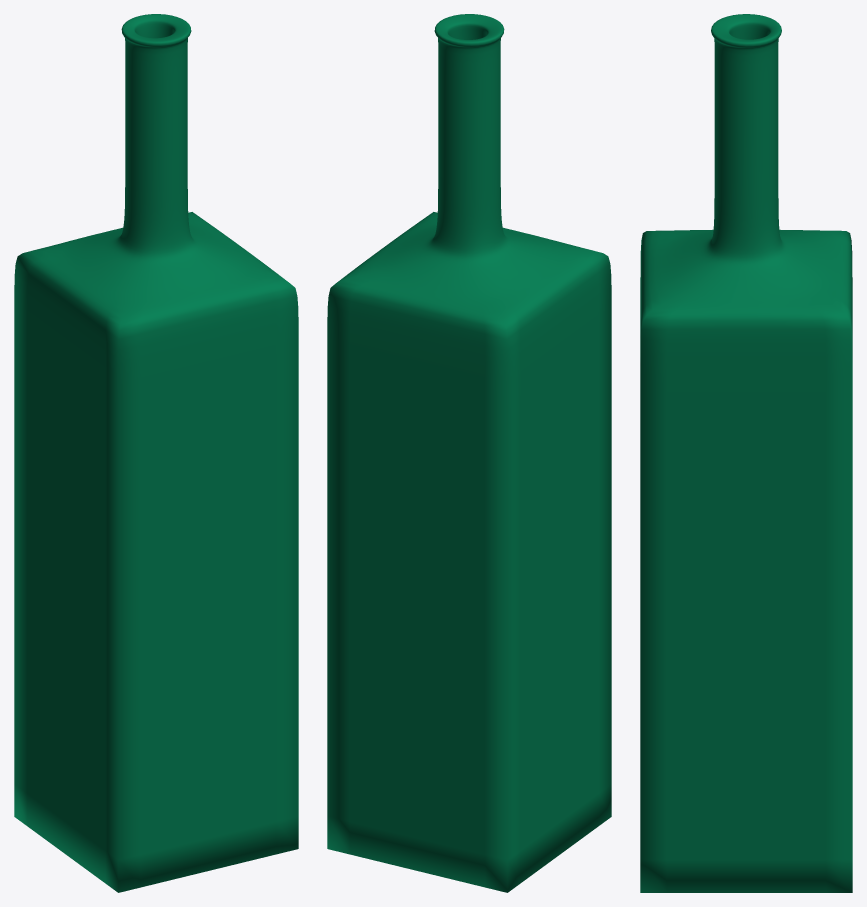
File: green-glass-bottle-vase.glb
3 views of the same model, side by side, from view 1: azimuth 30°, elevation 25°; view 2: azimuth 150°, elevation 25°; view 3: azimuth 270°, elevation 25° (orthographic).
Visible parts, largest first — view 1: Green glass bottle vase; view 2: Green glass bottle vase; view 3: Green glass bottle vase.
Boxes of the visible parts, x1,y1,x2,y2 form: Green glass bottle vase: (14,14,298,892); Green glass bottle vase: (327,14,611,892); Green glass bottle vase: (640,14,852,892).
Bounding box in the file's own units: 0.0667 × 0.2845 × 0.0667.
